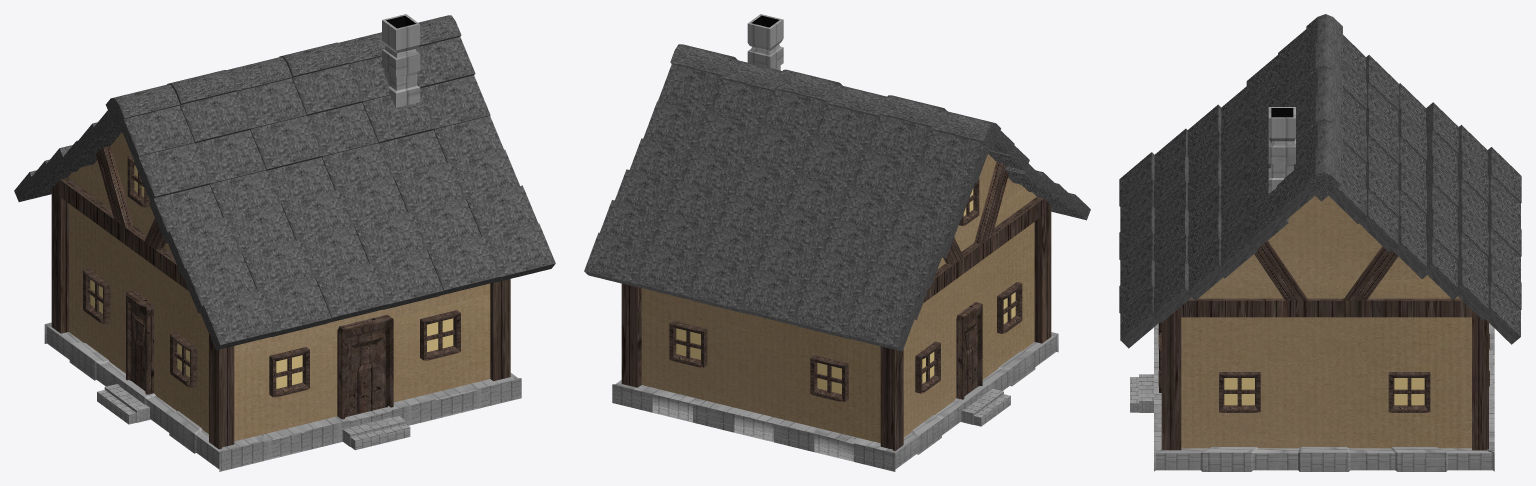
Rendered from house_a.glb.
3 renders of one model, left to right at view 1: azimuth 30°, elevation 25°; view 2: azimuth 150°, elevation 25°; view 3: azimuth 270°, elevation 25°, orthographic. The views are drawn at different scales.
Parts seen in each view (by area): view 1: node_45, node_6, node_8, node_4, node_10, node_47, node_18, node_26, node_15, node_12, node_28, node_20 (+3 smaller); view 2: node_45, node_6, node_4, node_8, node_18, node_47, node_42, node_39, node_28, node_20, node_23; view 3: node_45, node_6, node_8, node_4, node_47, node_36, node_33, node_26, node_37, node_34.
Part boxes in pixels (x1,y1,x2,y2): node_45: (14, 15, 555, 350); node_6: (68, 133, 490, 441); node_8: (51, 146, 510, 449); node_4: (44, 322, 521, 471); node_10: (337, 314, 393, 419); node_47: (382, 14, 420, 107); node_18: (126, 290, 153, 394); node_26: (342, 415, 410, 450); node_15: (269, 347, 309, 397); node_12: (420, 310, 460, 360); node_28: (97, 384, 150, 424); node_20: (170, 332, 197, 387); node_45: (584, 44, 1090, 351); node_6: (641, 154, 1036, 443); node_4: (612, 332, 1058, 471); node_8: (621, 161, 1051, 451); node_18: (956, 302, 982, 399); node_47: (747, 14, 783, 70); node_42: (810, 355, 848, 402); node_39: (669, 320, 707, 367); node_28: (961, 388, 1010, 426); node_20: (997, 282, 1022, 333); node_23: (915, 341, 940, 393); node_45: (1119, 14, 1521, 348); node_6: (1181, 195, 1471, 448); node_8: (1161, 241, 1488, 450); node_4: (1154, 323, 1494, 471); node_47: (1268, 107, 1295, 193); node_36: (1388, 372, 1430, 412); node_33: (1219, 372, 1260, 412); node_26: (1130, 374, 1153, 412); node_37: (1394, 378, 1424, 405); node_34: (1224, 378, 1254, 405).
Size of the model in its own units: 12.11 by 11.65 by 12.75.
Materials: 6 (4 with a texture image).
